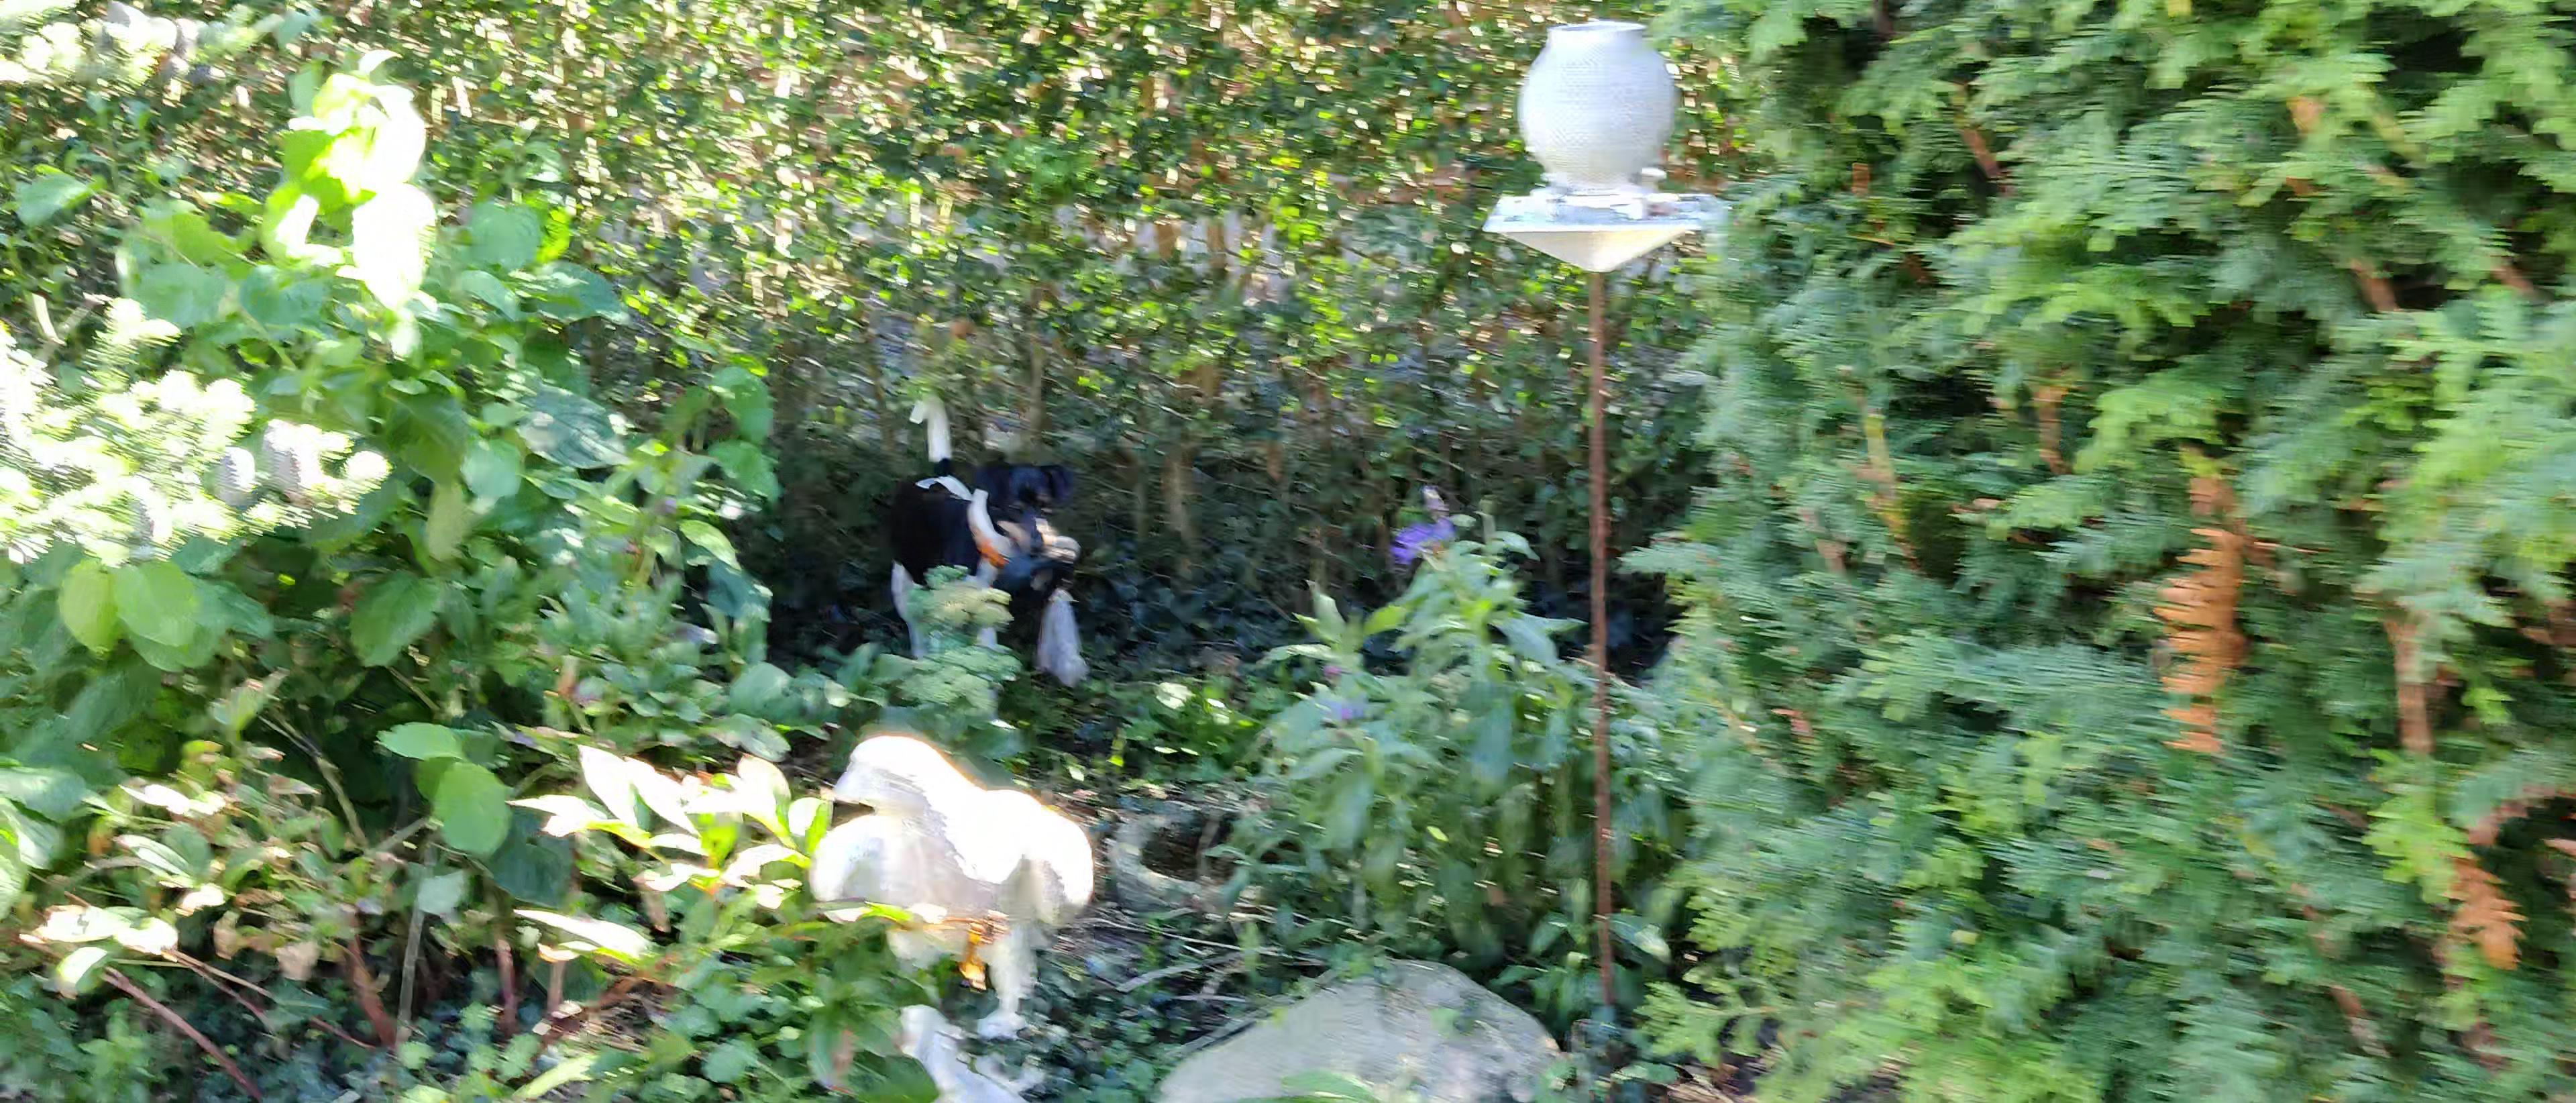Dog: (884, 385, 1073, 679)
